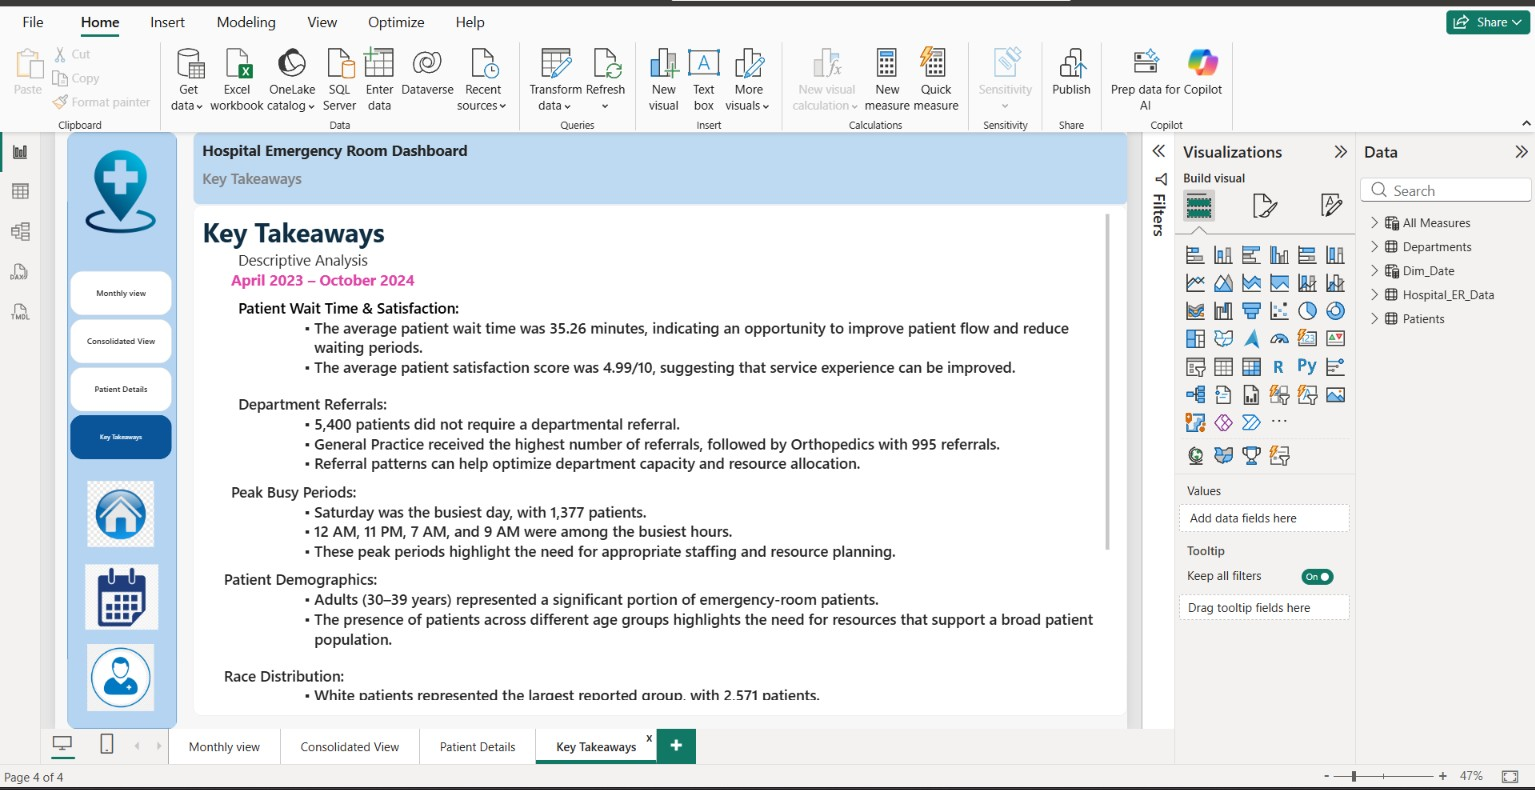

The page's visual inventory and layout, read from the dashboard file:
{"tool":"powerbi","page":{"name":"Key Takeaways","canvas":[2300,1280],"ordinal":3},"visuals":[{"type":"shape","box":[296,0,2005.4,156.6],"z":0},{"type":"shape","box":[25.7,0,235.9,1280.4],"z":1000},{"type":"textbox","box":[315.3,17.2,660.6,122.3],"z":2000},{"type":"shape","box":[296,156.6,2003.2,1096],"z":3000},{"type":"image","box":[40.8,38.6,199.5,178],"z":6000},{"type":"pageNavigator","box":[32.2,298.1,218.8,407.5],"z":7000},{"type":"image","box":[62.2,748.5,156.6,141.6],"z":8000},{"type":"image","box":[64.3,926.5,156.6,141.6],"z":9000},{"type":"image","box":[40.8,1098.1,199.5,143.7],"z":10000},{"type":"textbox","box":[315.3,175.9,1945.3,1042.4],"z":11001}]}

Visuals, with their boxes on the page's 2300x1280 design canvas (x1, y1, x2, y2). These are canvas units, not pixel positions in the 1535x790 screenshot, which may show the page scaled, cropped or inside an application window:
shape: 296:0:2301:157
shape: 26:0:262:1280
textbox: 315:17:976:140
shape: 296:157:2299:1253
image: 41:39:240:217
pageNavigator: 32:298:251:706
image: 62:748:219:890
image: 64:926:221:1068
image: 41:1098:240:1242
textbox: 315:176:2261:1218
